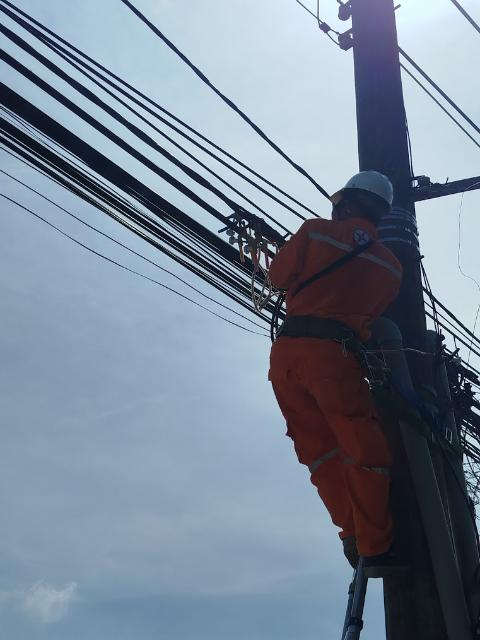harness: (244, 296, 371, 359)
helmet: (318, 167, 406, 219)
shoes: (357, 535, 424, 586), (333, 526, 370, 589)
